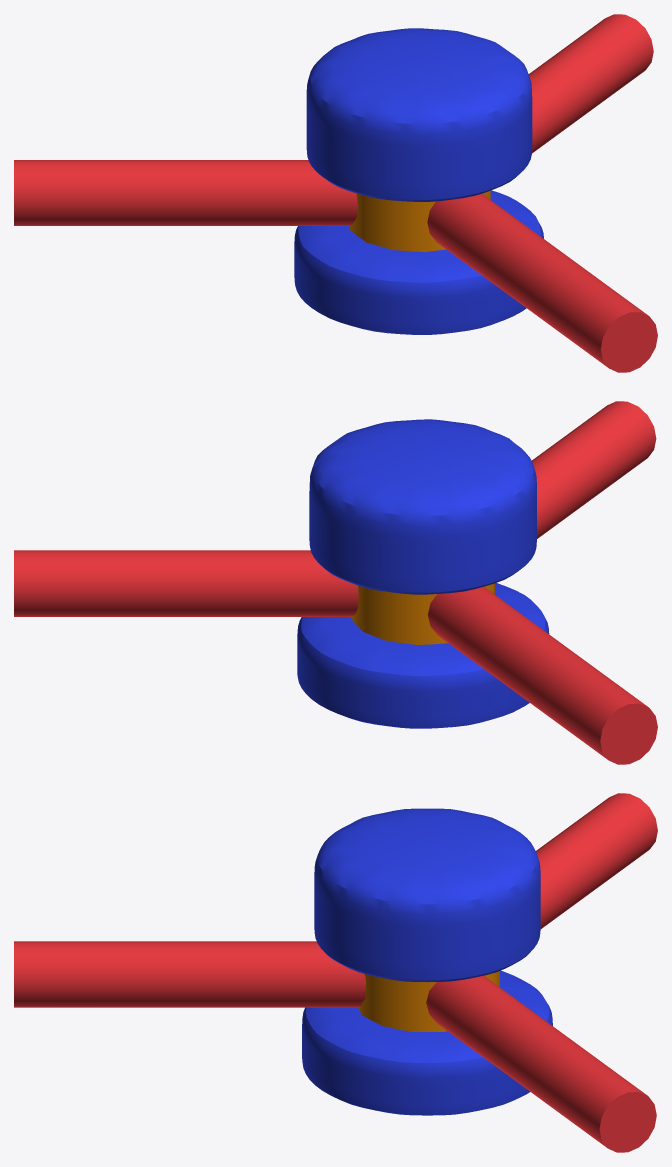
Rendered from engel8.fbx.
3 views of the same model, one above another, from view 1: azimuth 30°, elevation 25°; view 2: azimuth 150°, elevation 25°; view 3: azimuth 270°, elevation 25° (orthographic).
Visible parts, largest first — view 1: Cylinder.007, Cylinder.003; view 2: Cylinder.007, Cylinder.003; view 3: Cylinder.007, Cylinder.003.
Boxes of the visible parts, x1,y1,x2,y2 form: Cylinder.007: (294,28,543,334); Cylinder.003: (14,14,657,372); Cylinder.007: (297,419,549,728); Cylinder.003: (14,401,657,764); Cylinder.007: (302,808,552,1115); Cylinder.003: (14,793,657,1152).
Size of the model in its own units: 685 by 229 by 596.
